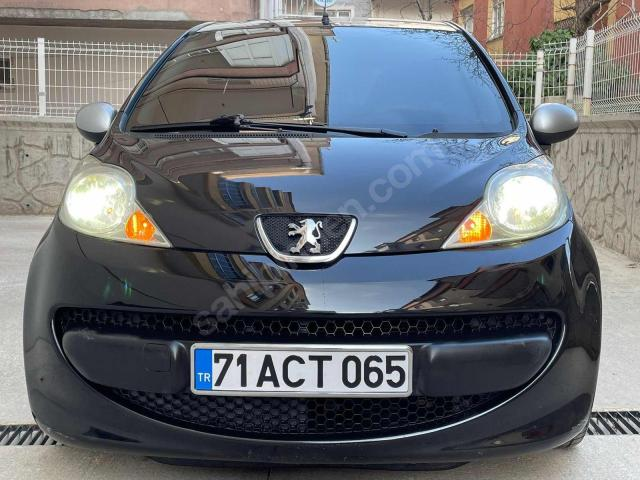plaka: (191, 344, 412, 396)
